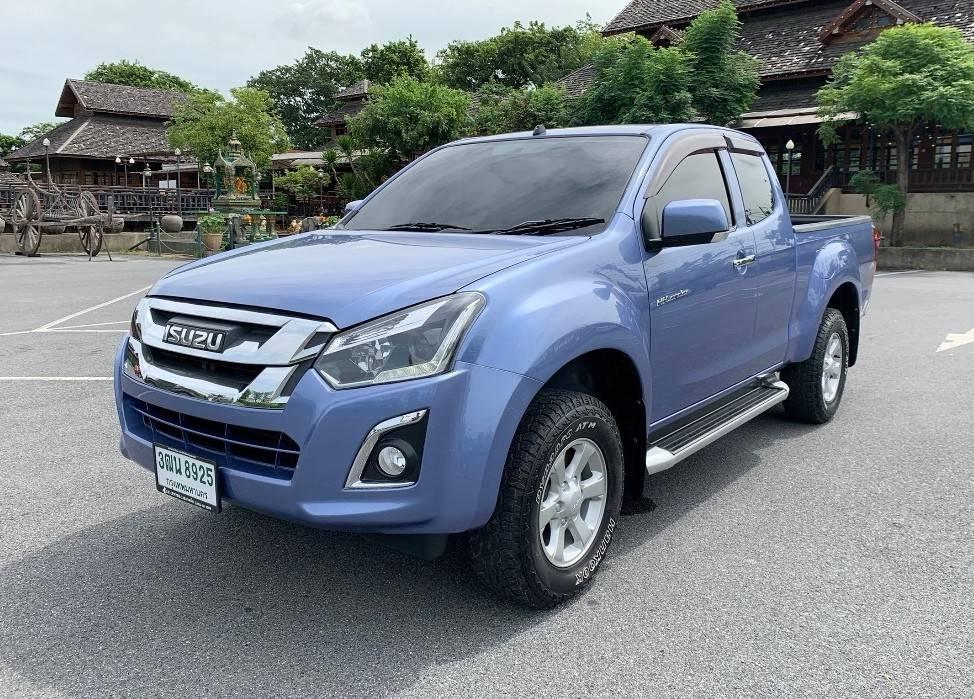license-plate: (152, 441, 222, 517)
